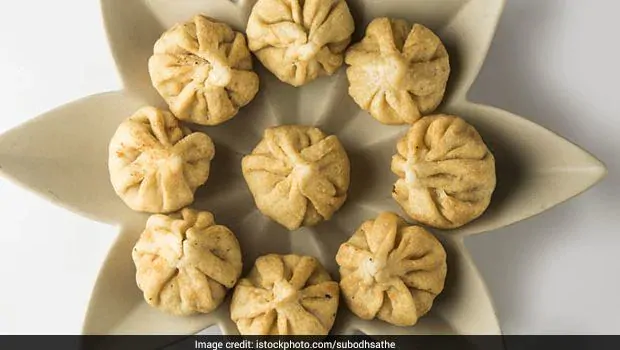modak: (335, 212, 472, 330), (116, 196, 250, 314), (338, 8, 461, 116), (235, 126, 361, 223), (145, 21, 261, 125), (103, 109, 219, 210), (238, 3, 367, 86), (224, 249, 342, 333), (399, 127, 497, 226)
